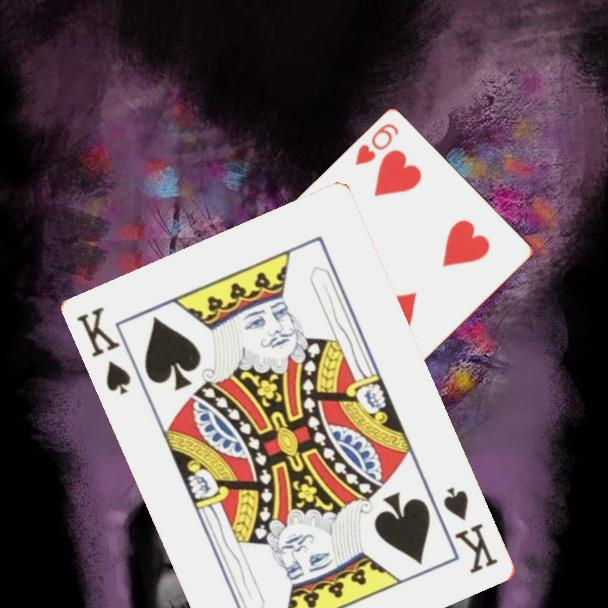h06: (351, 120, 401, 169)
s13: (74, 303, 135, 398), (440, 483, 501, 577)
